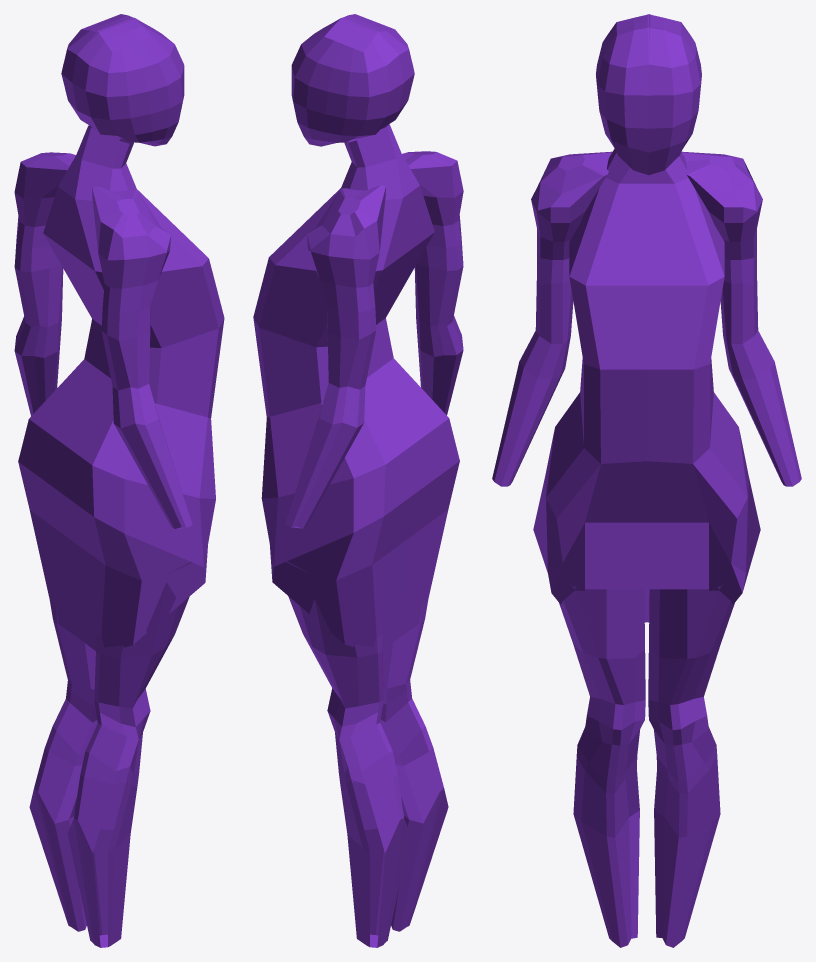
File: tyanka.obj
The picture shows the model from 3 angles, left to right: view 1: azimuth 30°, elevation 25°; view 2: azimuth 150°, elevation 25°; view 3: azimuth 270°, elevation 25°; orthographic projection. The views are drawn at different scales.
Visible parts, largest first — view 1: Body, Nozhki, Ruchki, Head; view 2: Body, Nozhki, Ruchki, Head; view 3: Body, Nozhki, Ruchki, Head.
Part boxes in pixels (bbox=[...]): Body: bbox=[18, 125, 224, 650]; Nozhki: bbox=[29, 561, 191, 947]; Ruchki: bbox=[14, 152, 192, 528]; Head: bbox=[61, 14, 184, 146]; Body: bbox=[253, 124, 459, 650]; Nozhki: bbox=[286, 561, 448, 947]; Ruchki: bbox=[285, 151, 463, 528]; Head: bbox=[291, 14, 414, 146]; Body: bbox=[533, 148, 760, 622]; Nozhki: bbox=[540, 548, 753, 947]; Ruchki: bbox=[492, 151, 801, 486]; Head: bbox=[596, 14, 701, 175].
Bounding box in the file's own units: 0.7376 × 4.37 × 1.31.
